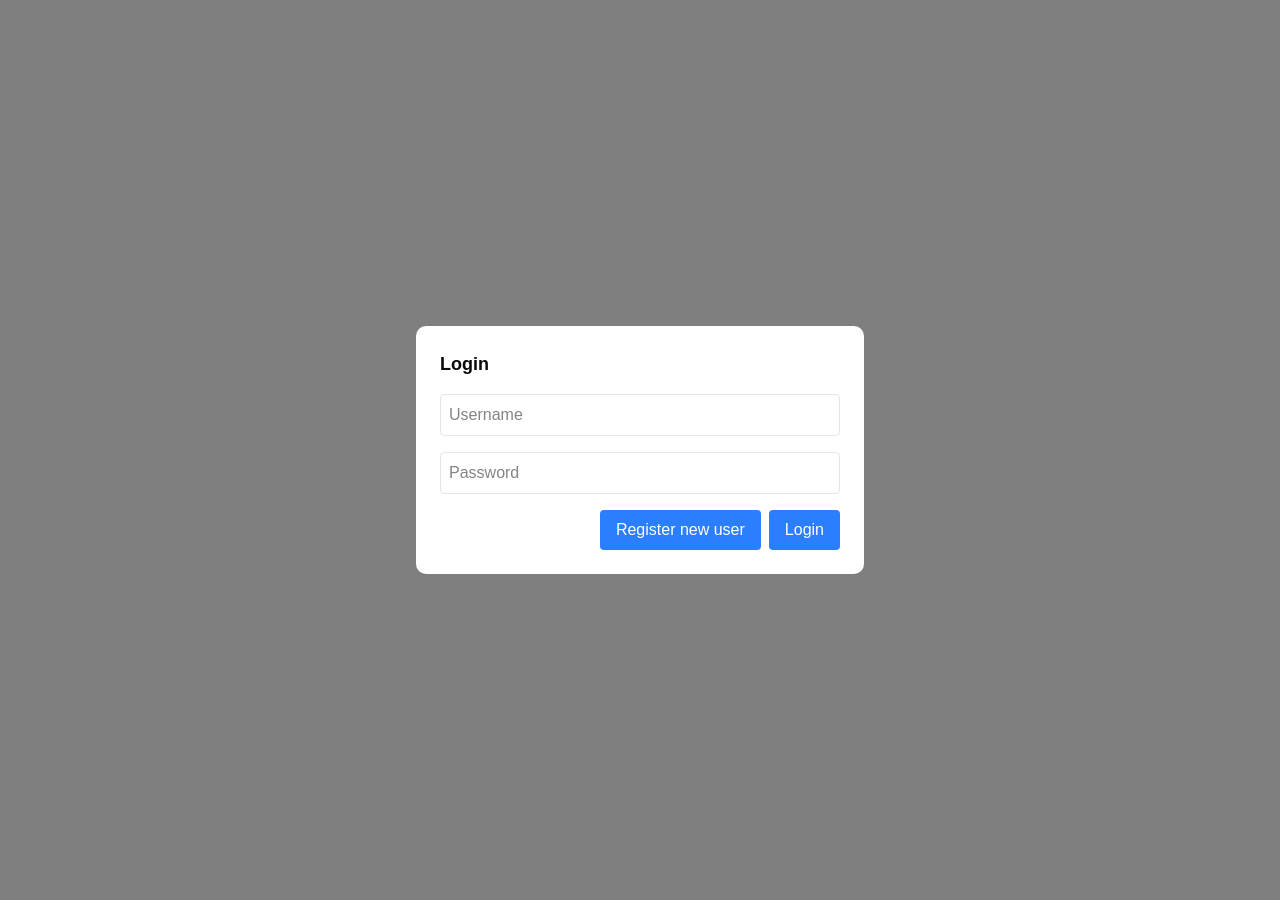
Scenario: LoginPage › shows validation errors when fields are empty and submitted
The width and height of the screenshot is (1280, 900).
Click the button "Login" at (804, 530), box [769,510,840,550]
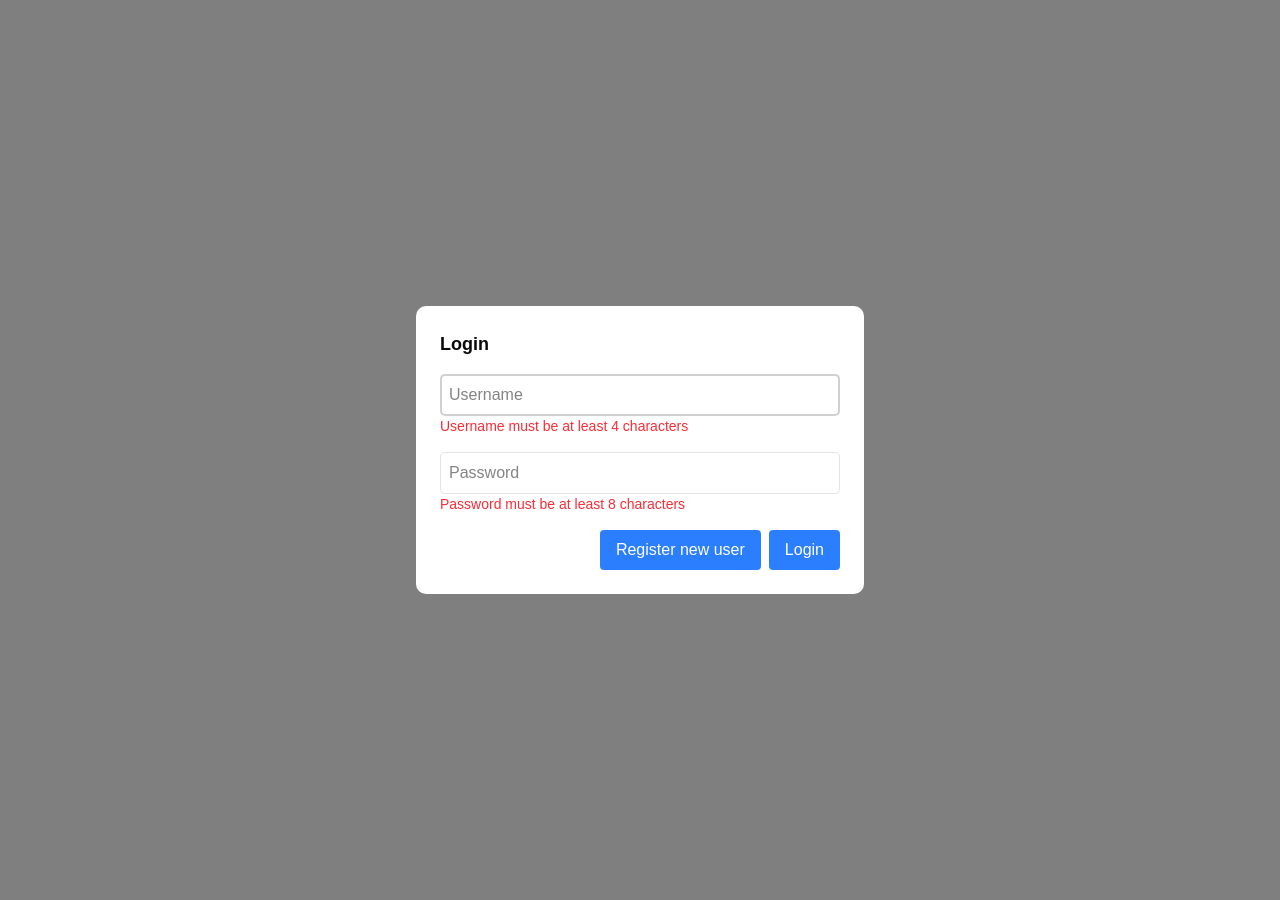
Now the text "Username must be at least 4 characters" is shown, box [440,418,688,434]
Now the text "Password must be at least 8 characters" is shown, box [440,496,685,512]
